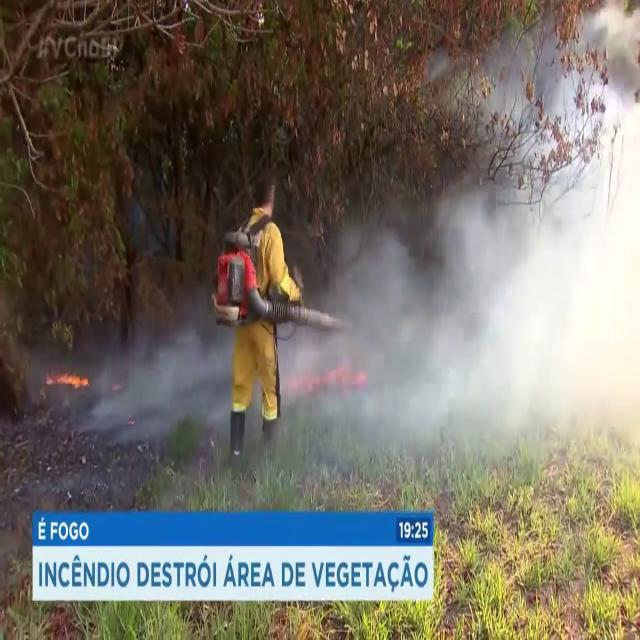Fire: (44, 359, 90, 396)
Smoke: (299, 6, 640, 486), (90, 238, 228, 445)
